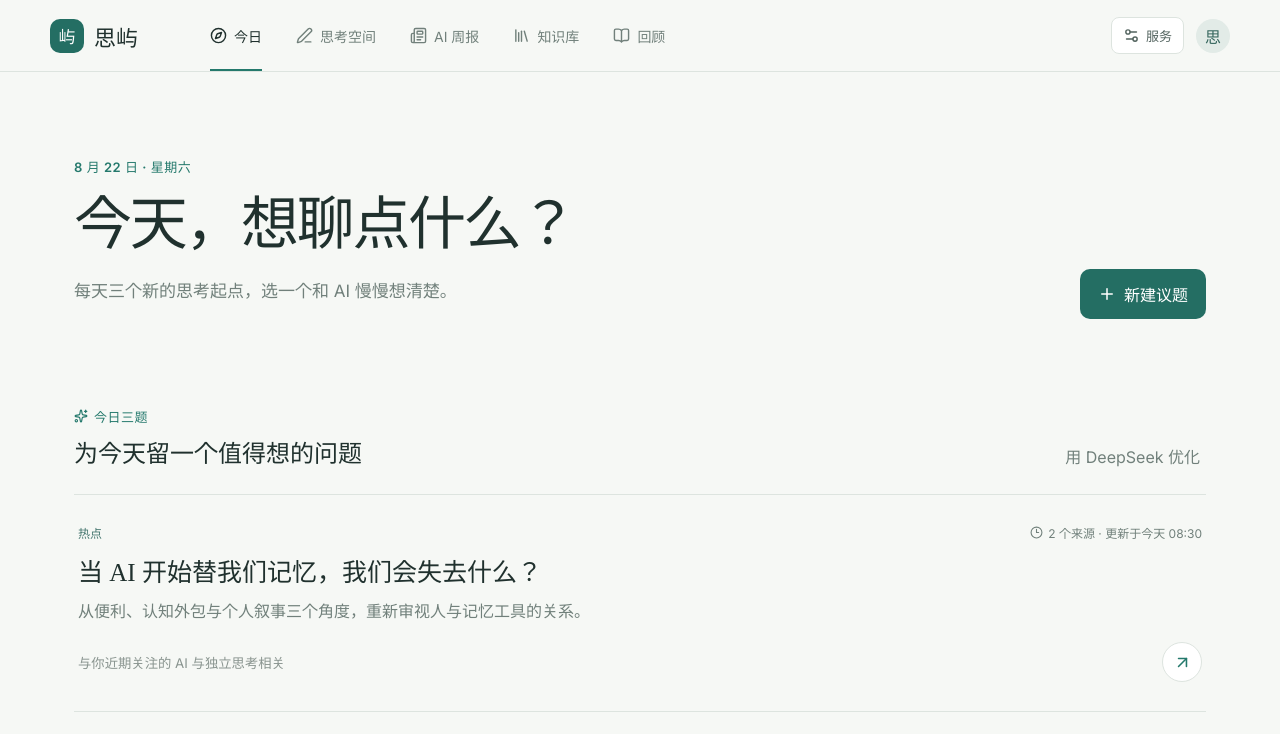
switches between all primary navigation views
Click the link "思考空间" at (336, 36), box [296,27,376,44]
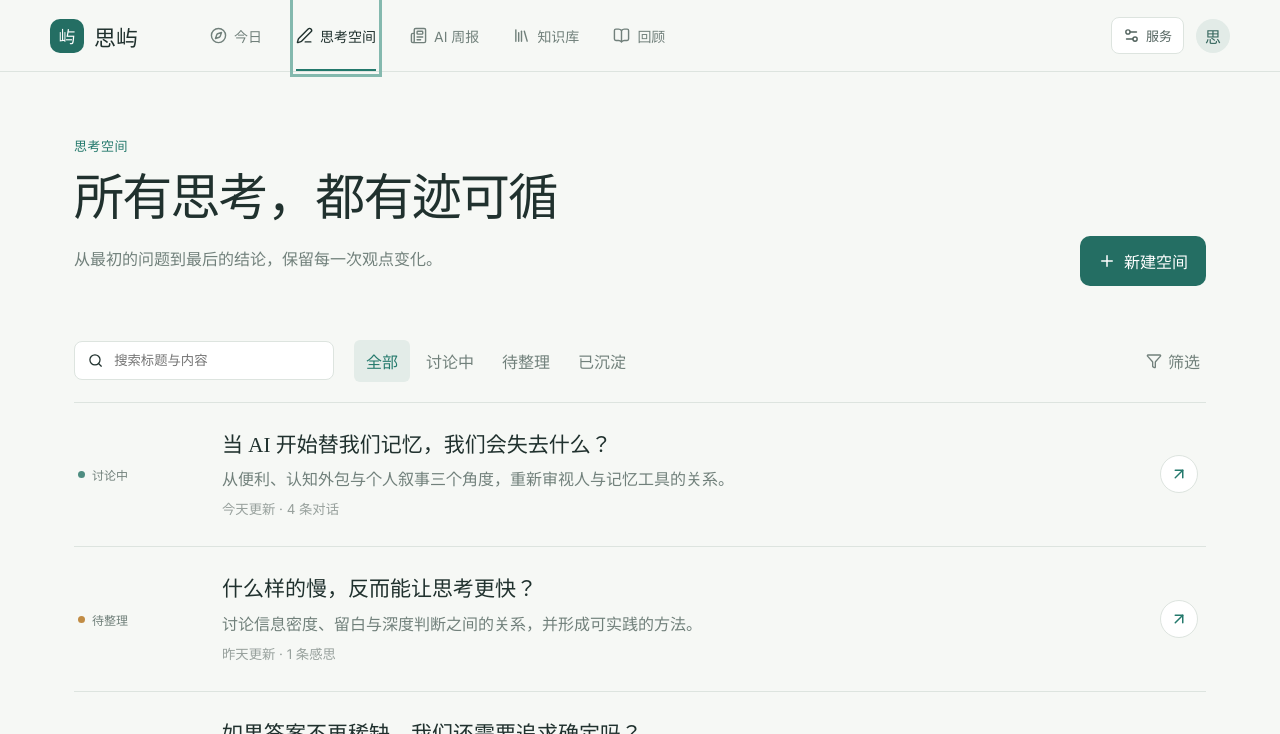
expect the heading "所有思考，都有迹可循" is shown: met, box [74,167,556,230]
Click the link "知识库" at (546, 36), box [513,27,579,44]
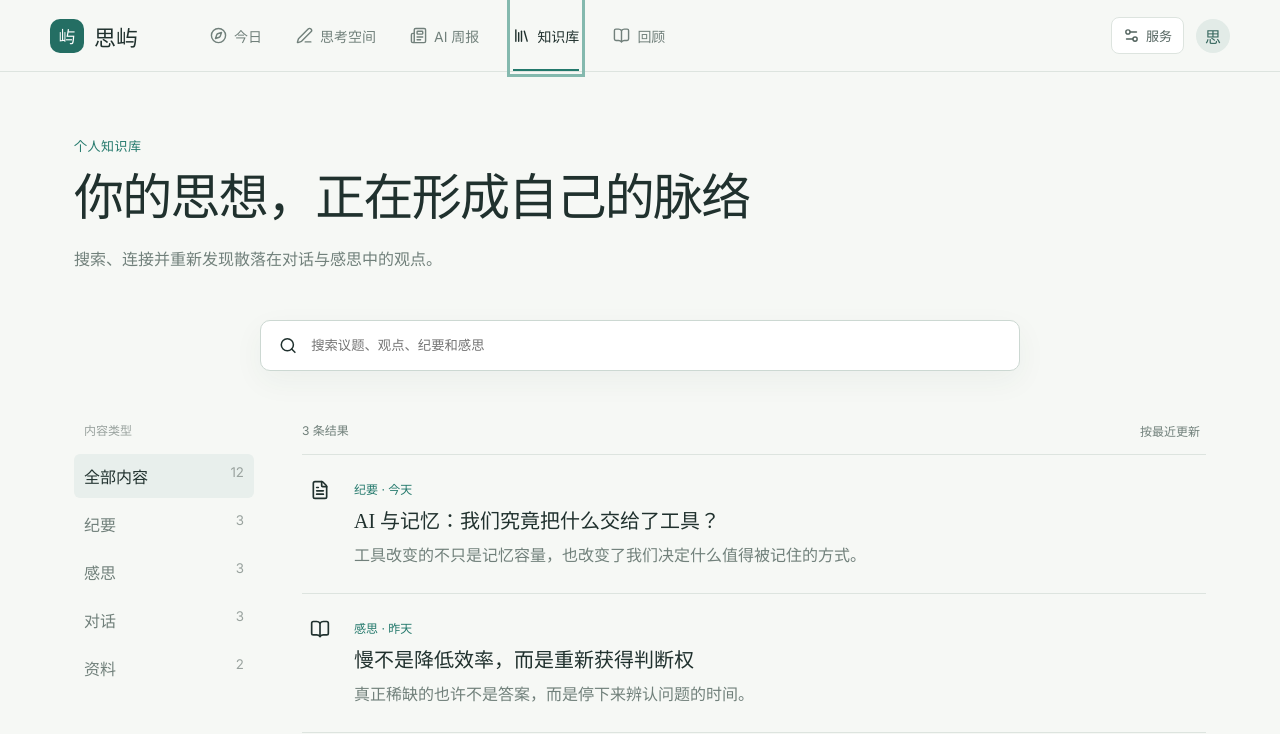
expect the heading "你的思想，正在形成自己的脉络" is shown: met, box [74,167,750,230]
Click the link "回顾" at (639, 36), box [613,27,665,44]
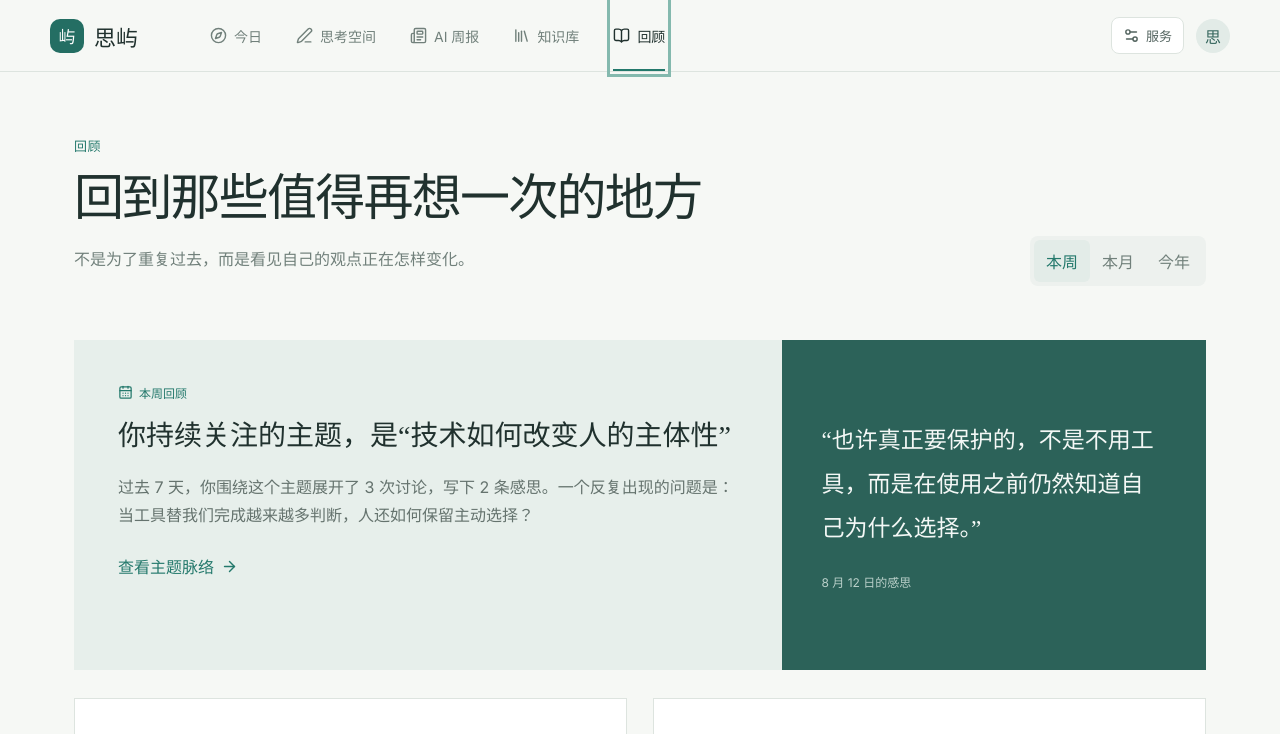
expect the heading "回到那些值得再想一次的地方" is shown: met, box [74,167,701,230]
Click the link "今日" at (236, 36), box [210,27,262,44]
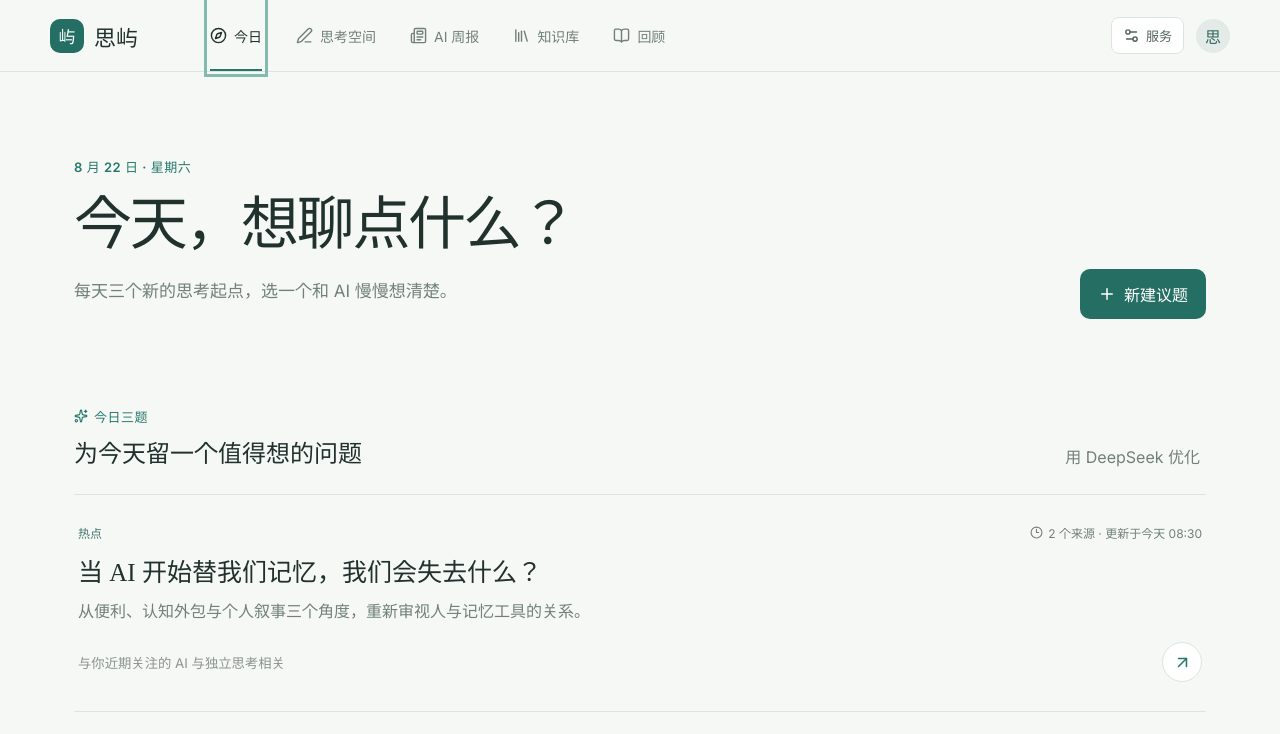
expect the heading "今天，想聊点什么？" is shown: met, box [74,190,575,260]
